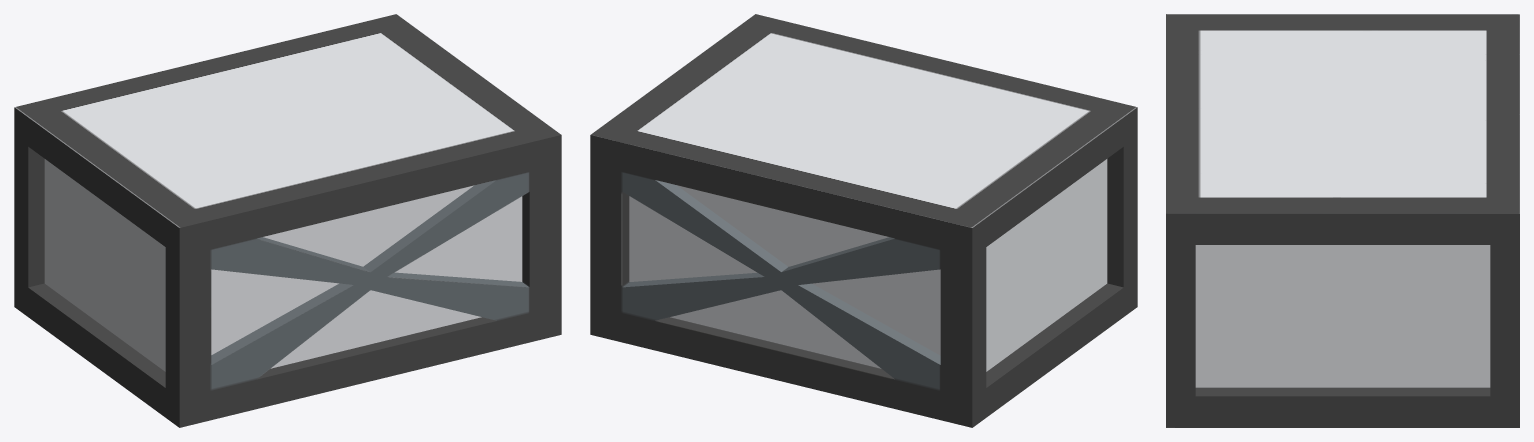
Rendered from Building_Platform.fbx.
3 renders of one model, left to right at view 1: azimuth 30°, elevation 25°; view 2: azimuth 150°, elevation 25°; view 3: azimuth 270°, elevation 25°, orthographic. The views are drawn at different scales.
Visible parts, largest first — view 1: Platform; view 2: Platform; view 3: Platform.
Boxes of the visible parts, x1,y1,x2,y2 form: Platform: (14, 14, 561, 427); Platform: (590, 14, 1137, 427); Platform: (1166, 14, 1519, 427).
Size of the model in its own units: 4 by 2 by 2.99.
2 materials, 2 textured.
